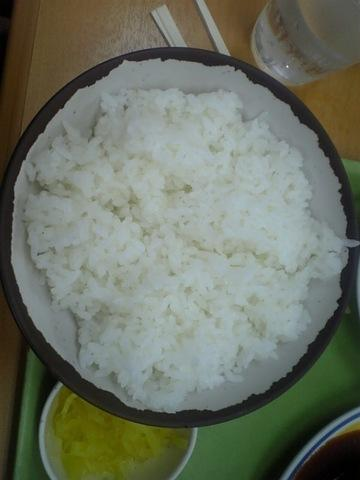rice: (23, 90, 346, 411)
